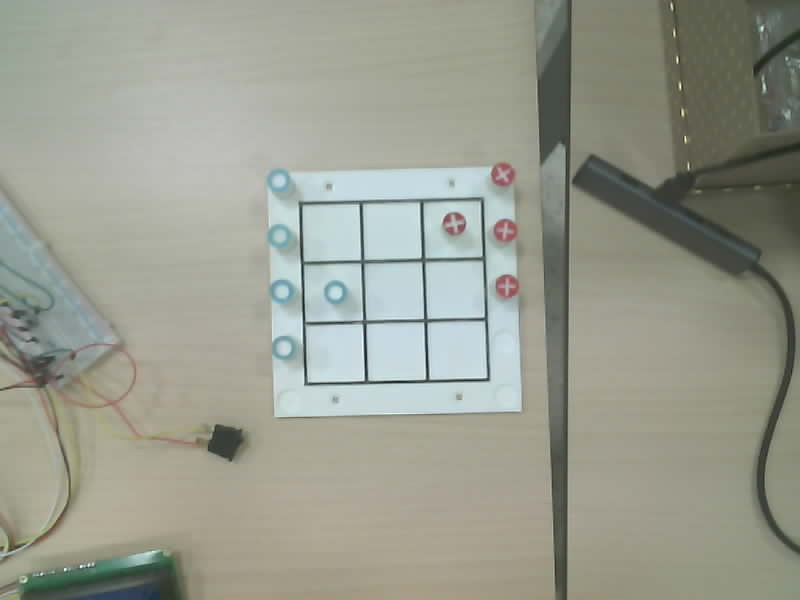blue circle: (266, 168, 291, 192), (270, 279, 294, 303), (267, 224, 291, 248), (324, 280, 347, 304), (272, 336, 295, 359)
board: (267, 163, 520, 416)
cells: (428, 321, 488, 380), (425, 260, 485, 318), (306, 324, 364, 383), (367, 323, 425, 381), (424, 200, 483, 257), (303, 264, 362, 321), (364, 263, 423, 319), (301, 204, 360, 260), (363, 202, 420, 259)
grid: (299, 197, 489, 385)
red cross: (491, 162, 516, 187), (493, 218, 517, 242), (442, 211, 466, 234), (496, 274, 518, 297)
